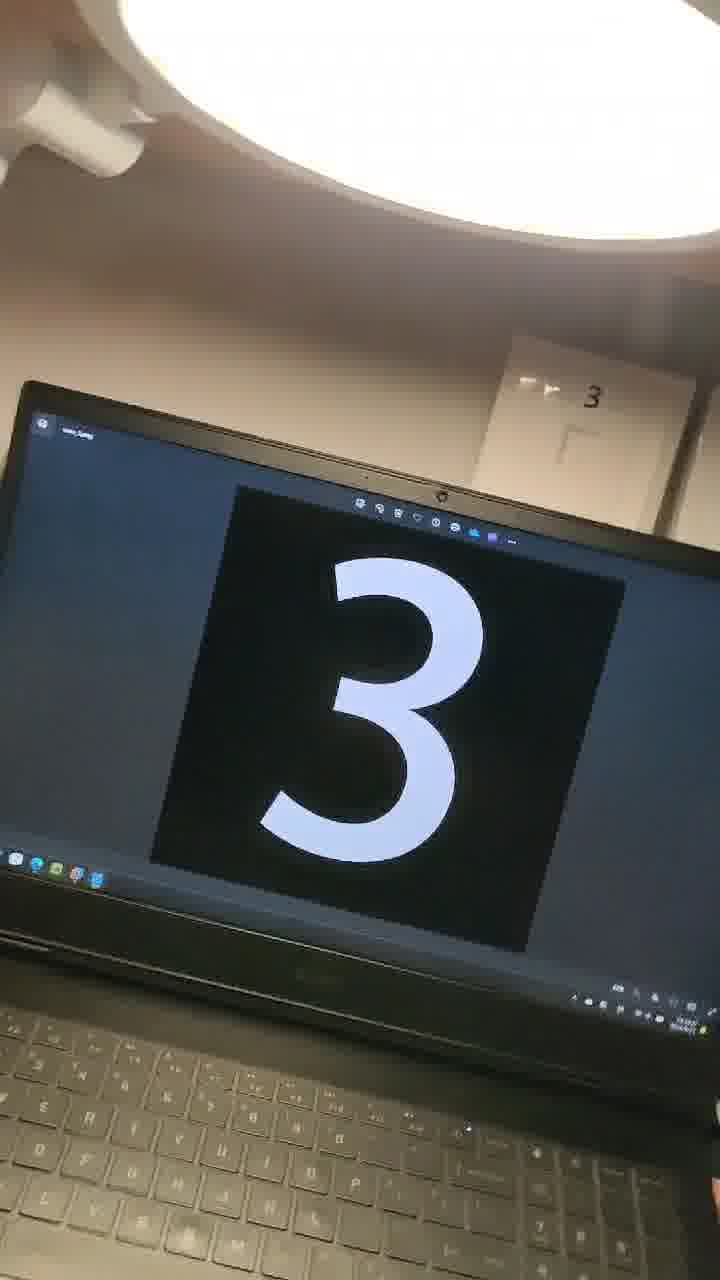three: (236, 521, 552, 967)
